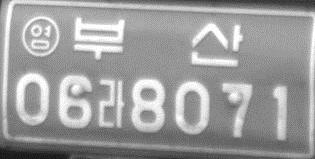0: (173, 80, 210, 136), (14, 71, 49, 126)
1: (263, 84, 299, 140)
6: (57, 73, 92, 130)
7: (220, 80, 254, 139)
8: (129, 77, 165, 133)
라: (96, 77, 126, 130)
부산_D: (72, 15, 243, 66)
영: (20, 15, 60, 56)
